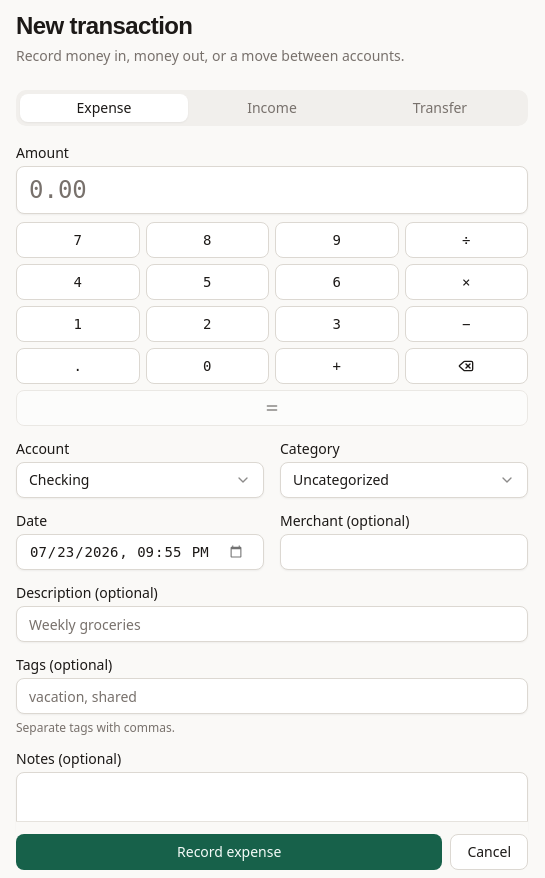
Test: TransactionFormPage › adapts fields to the selected type
The width and height of the screenshot is (545, 878).
Expected: the field labelled "Amount" is shown, [16,166,528,214]
Expected: the dropdown named "Category" is shown, [280,462,528,498]
Click the tab "Income" at point(272, 108), box [188,94,356,122]
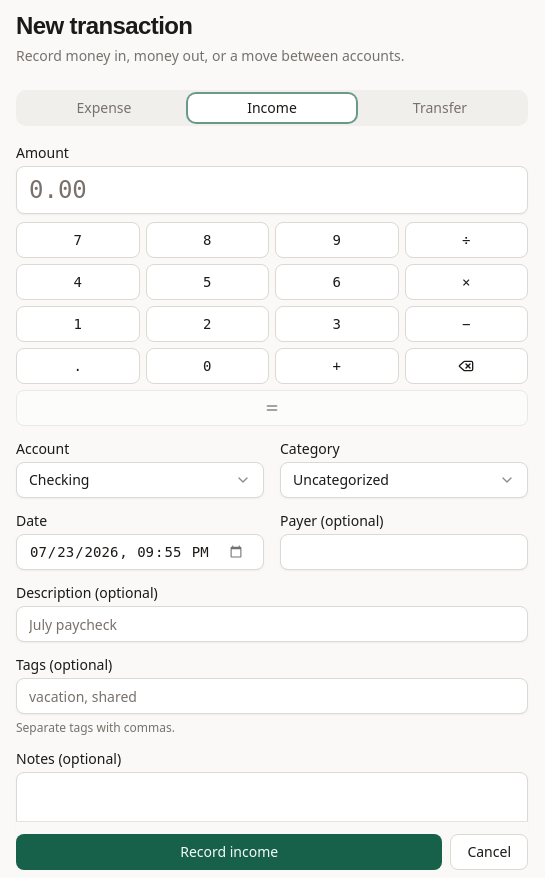
Expected: the field labelled "Payer (optional)" is shown, [280,534,528,570]
Expected: the button "Record income" is shown, [16,834,442,870]
Click the tab "Transfer" at point(440, 108), box [356,94,524,122]
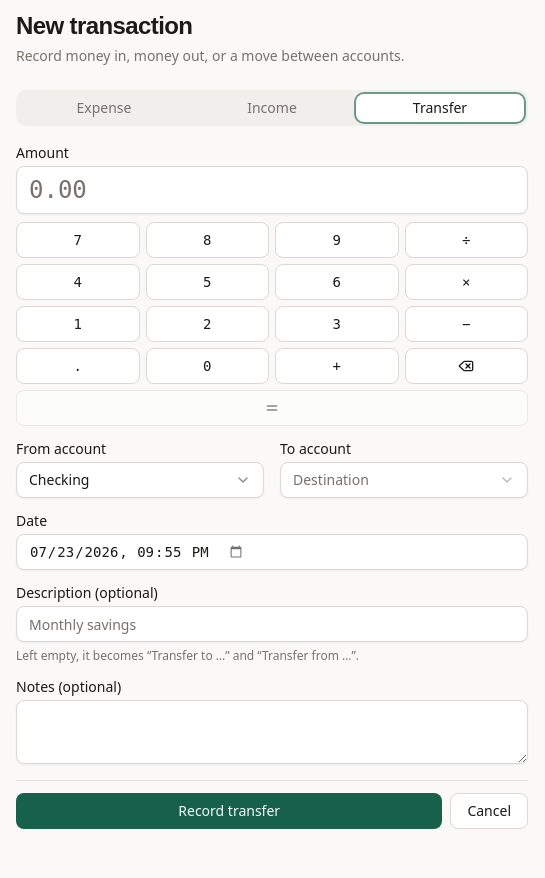
Expected: the dropdown named "From account" is shown, [16,462,264,498]
Expected: the dropdown named "To account" is shown, [280,462,528,498]
Expected: the label labelled "Category" is gone
